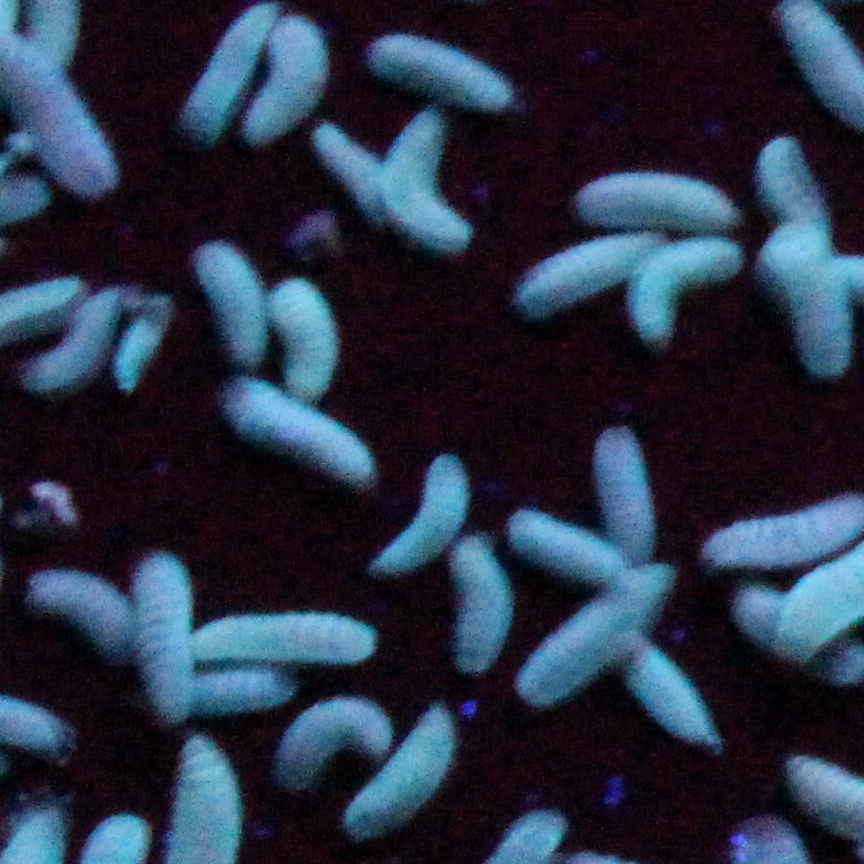larve: (518, 548, 690, 706), (211, 369, 391, 486), (1, 35, 125, 193), (374, 28, 526, 132), (346, 703, 449, 840), (627, 232, 745, 348), (378, 114, 475, 254), (188, 241, 282, 378), (571, 164, 751, 235), (184, 611, 388, 673), (374, 456, 470, 584), (585, 426, 674, 561), (174, 0, 262, 136), (16, 564, 139, 661), (127, 549, 191, 724), (619, 639, 721, 748), (12, 293, 123, 389), (438, 540, 514, 680), (505, 235, 648, 309), (307, 117, 399, 230), (278, 699, 394, 780), (504, 501, 620, 578), (113, 290, 174, 391), (188, 666, 299, 717)
